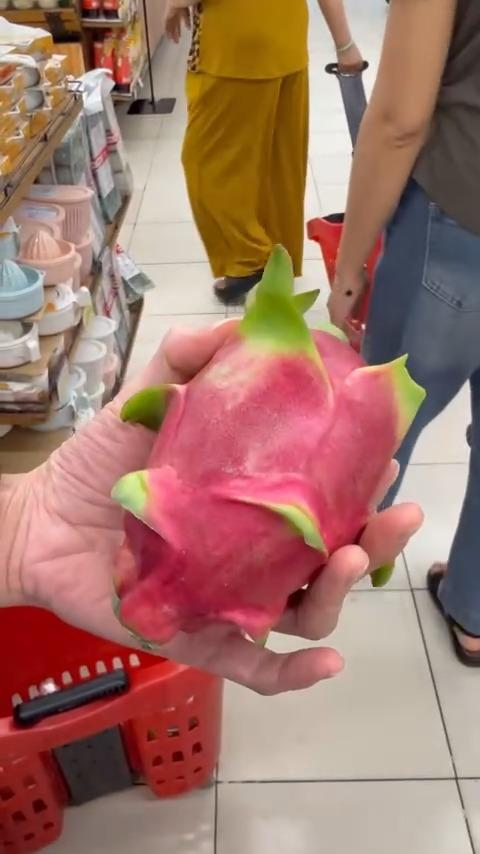dragon fruit: (120, 249, 415, 636)
